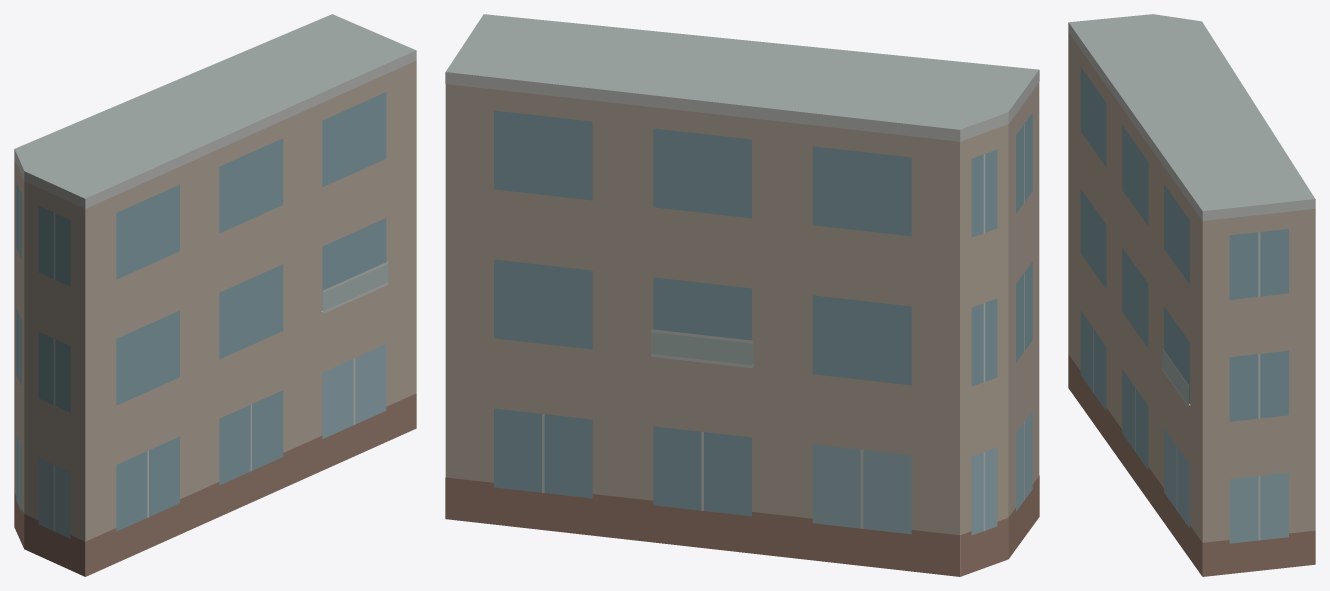
File: survey-upis-32618978.glb
3 views of the same model, side by side, from view 1: azimuth 30°, elevation 25°; view 2: azimuth 150°, elevation 25°; view 3: azimuth 270°, elevation 25° (orthographic). The views are drawn at different scales.
Visible parts, largest first — view 1: survey-upis-32618978.tmp; view 2: survey-upis-32618978.tmp; view 3: survey-upis-32618978.tmp.
Part boxes in pixels (box(x1,y1,x2,y2)): survey-upis-32618978.tmp: box(14, 14, 416, 576); survey-upis-32618978.tmp: box(445, 14, 1039, 576); survey-upis-32618978.tmp: box(1068, 14, 1315, 576).
Size of the model in its own units: 10.6 by 9.15 by 5.61.
